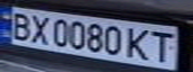0: (103, 22, 127, 56), (66, 18, 87, 52), (48, 16, 69, 48)
8: (84, 20, 106, 54)
B: (6, 9, 36, 42)
K: (124, 26, 154, 62)
T: (148, 28, 178, 63)
X: (24, 12, 51, 46)
